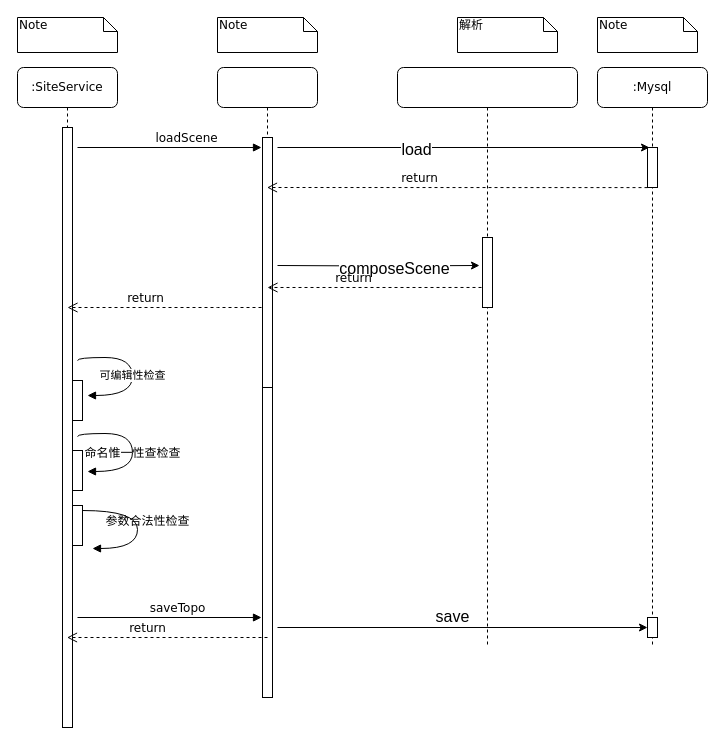
Some shapes in this 725 by 745 pixel diagram are drawn without their labels. Here are the shapes that lost their labels. From the top down, the box of each, then its label:
(396, 66, 578, 648): : AbstractSceneFactory
(216, 66, 318, 698): :SceneService
